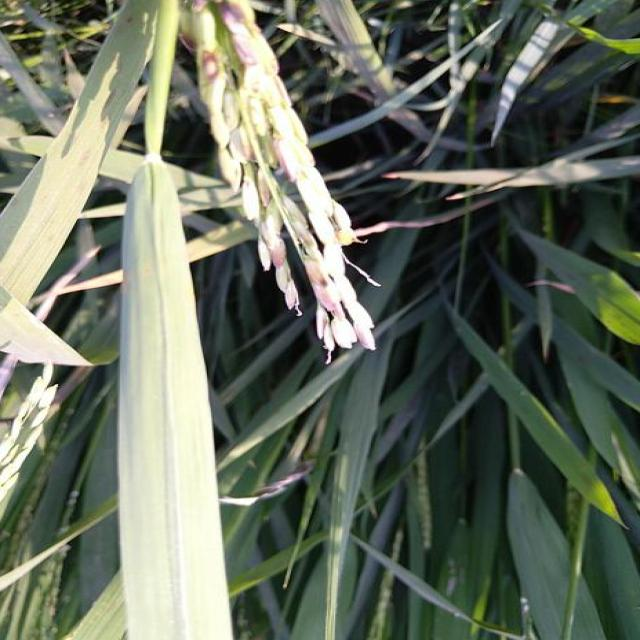Panicle Blight: (281, 193, 339, 313), (189, 0, 258, 66), (273, 139, 294, 181), (230, 128, 252, 162), (257, 167, 270, 217), (352, 322, 375, 349), (204, 52, 218, 78), (272, 243, 284, 266)
